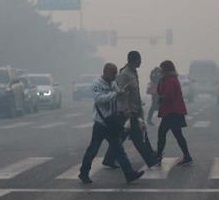person: (78, 62, 147, 185), (101, 49, 165, 170), (156, 59, 194, 166), (145, 64, 165, 126)
